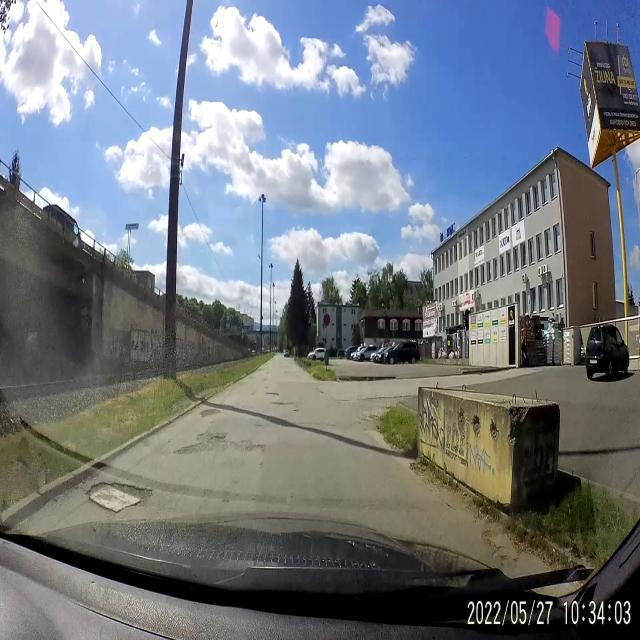Pothole: (86, 476, 152, 512), (180, 434, 258, 458), (200, 406, 222, 422), (269, 396, 293, 409), (262, 389, 284, 399)
